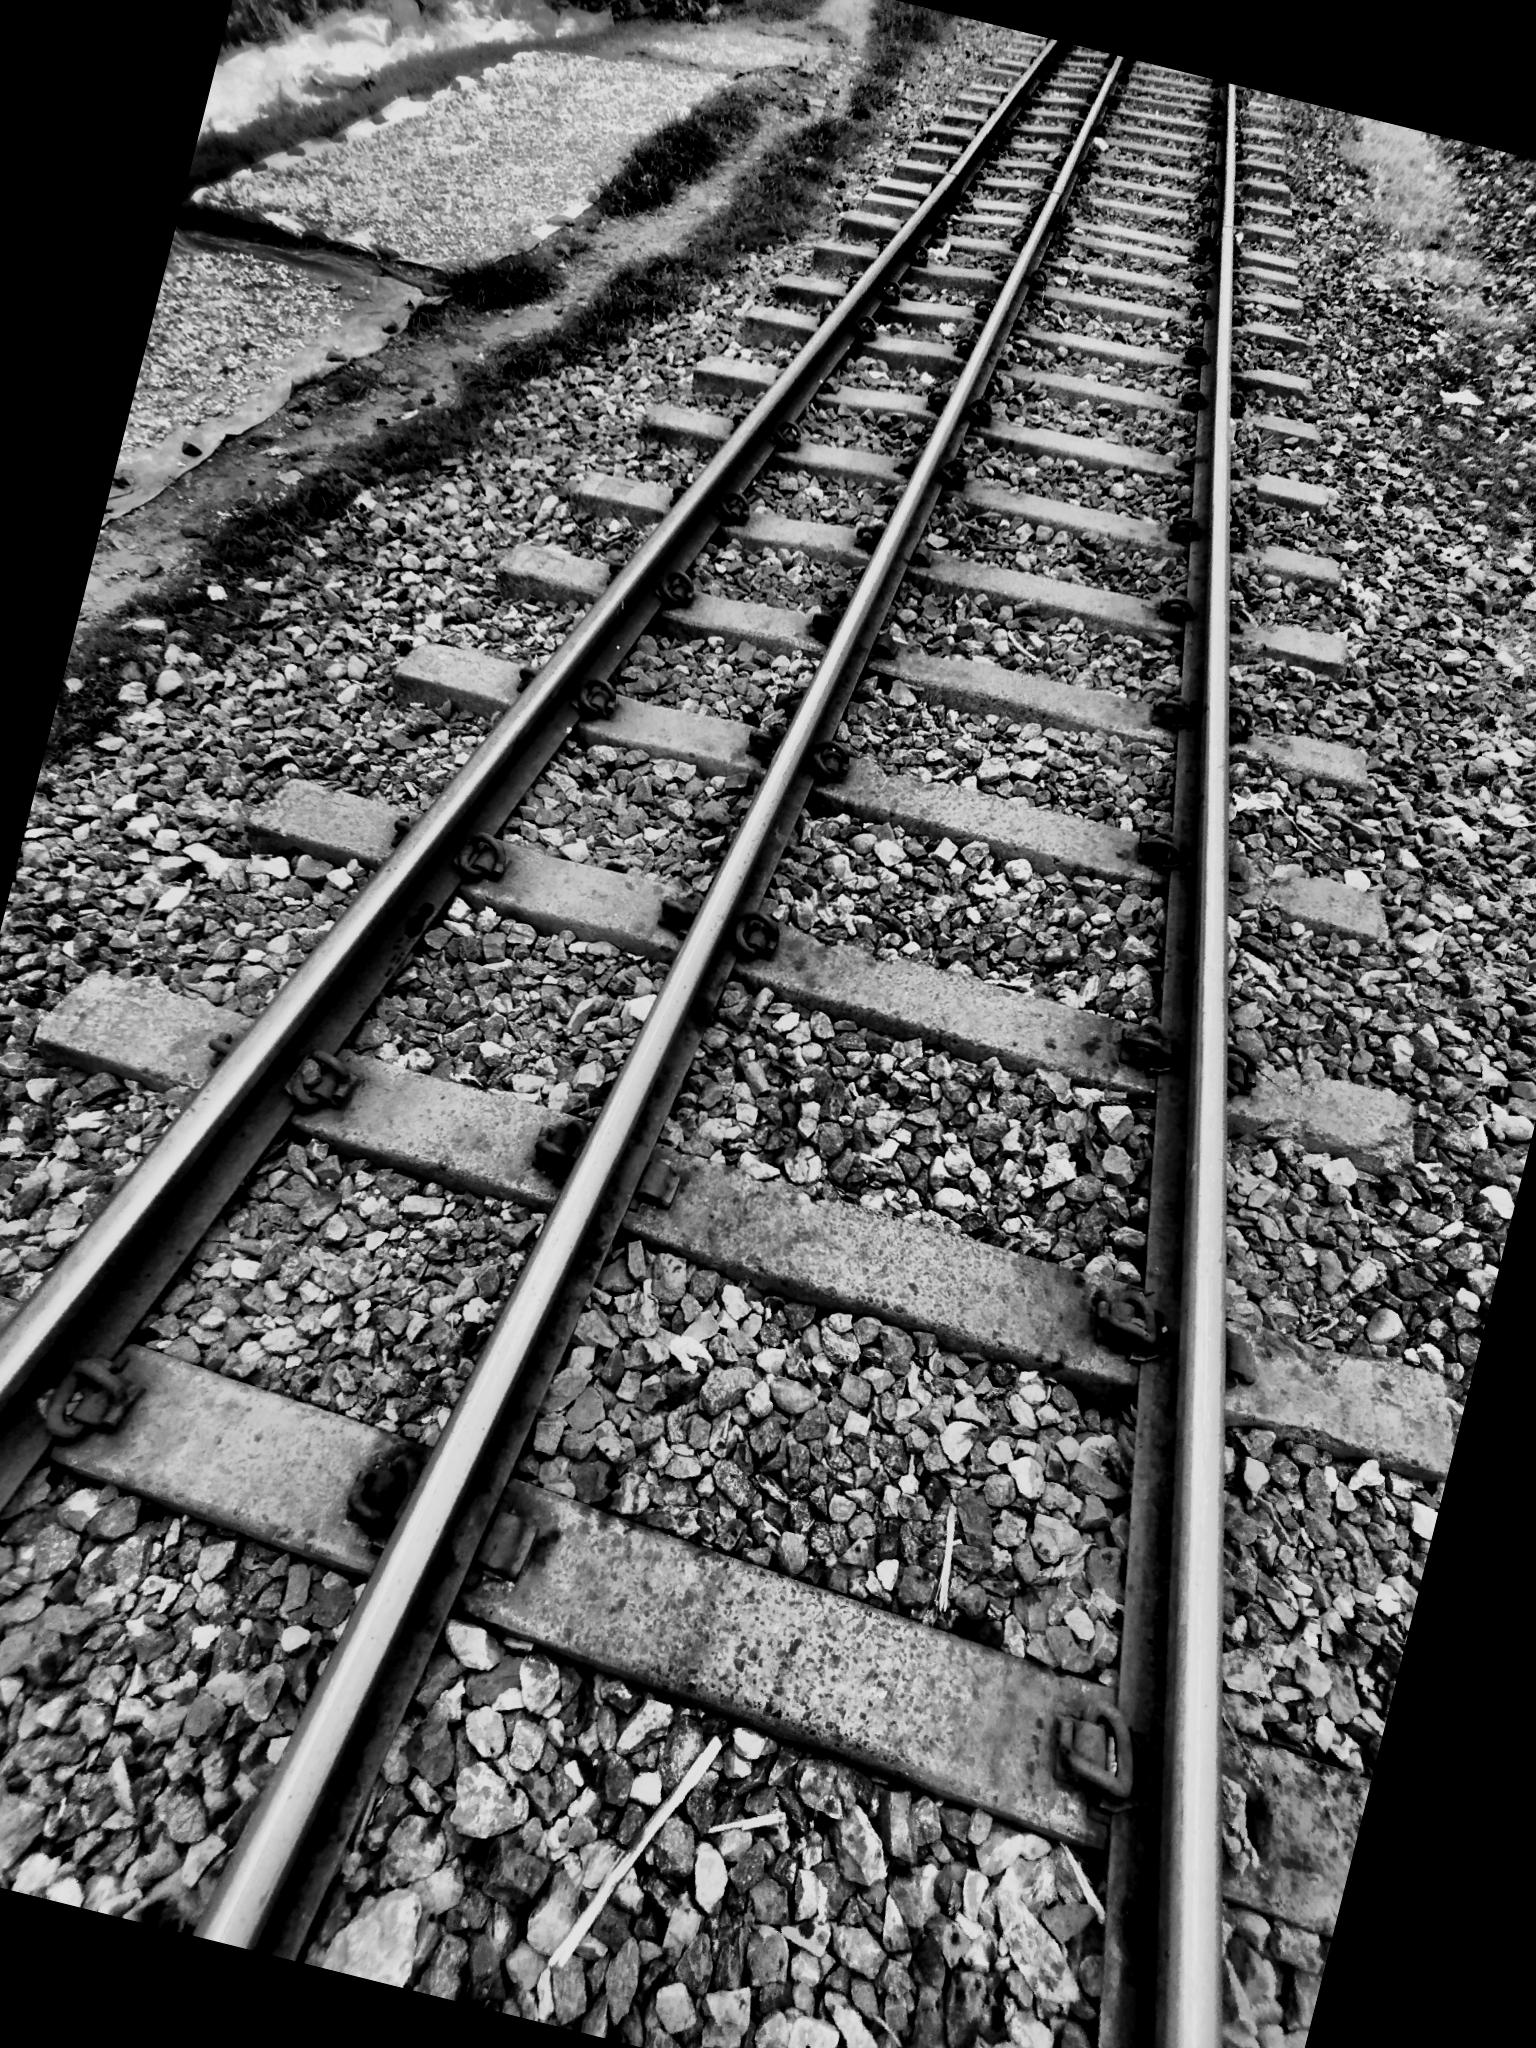Trash: (520, 1692, 741, 2021)
